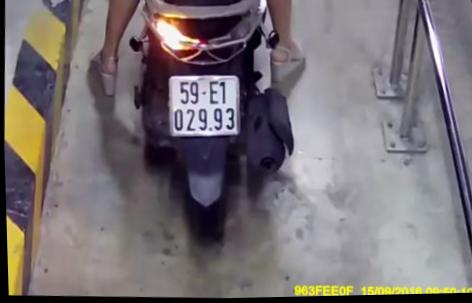LP: (163, 71, 243, 142)
